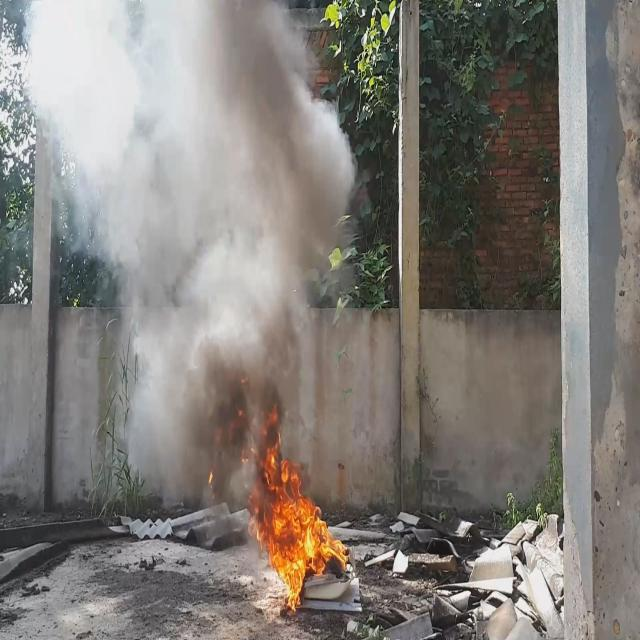Fire: (252, 442, 352, 610)
Smoke: (20, 0, 358, 505)
